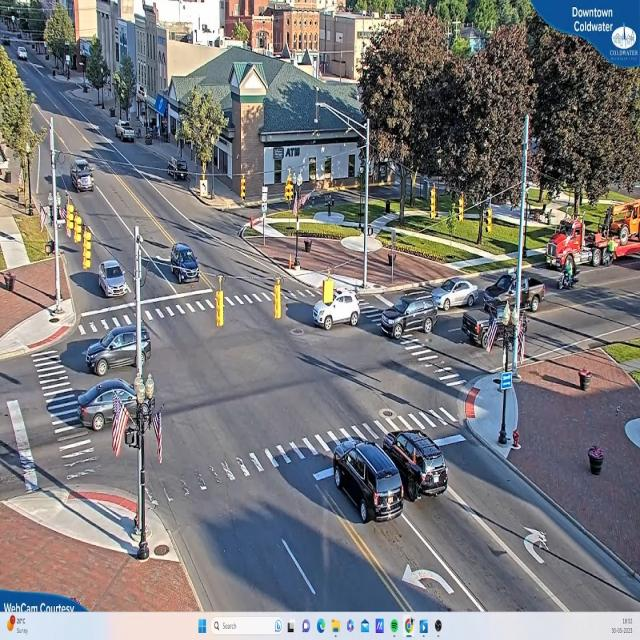car: (331, 437, 407, 524), (385, 430, 449, 498), (85, 327, 153, 377), (78, 379, 142, 431), (378, 294, 438, 338), (313, 296, 362, 331), (433, 278, 485, 310), (97, 259, 130, 298), (170, 244, 201, 282), (117, 122, 137, 144)
